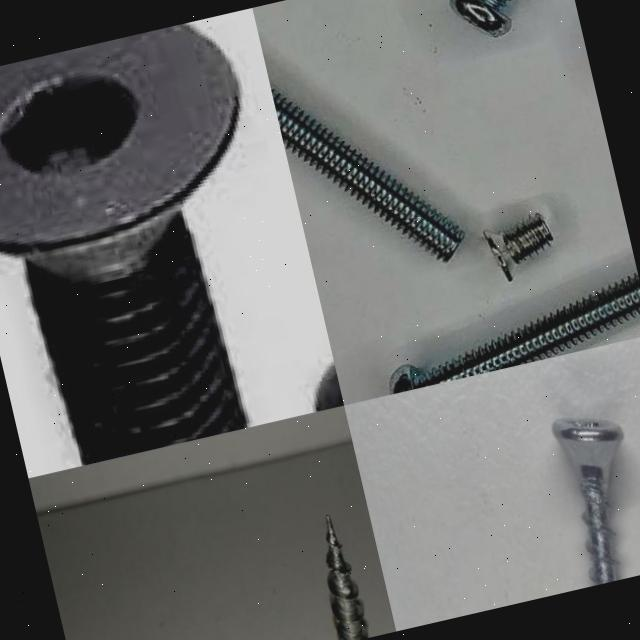Screw: (0, 23, 249, 465), (271, 90, 462, 262), (388, 274, 640, 394), (551, 418, 623, 585), (325, 513, 368, 640), (482, 214, 552, 282), (449, 0, 508, 36)
